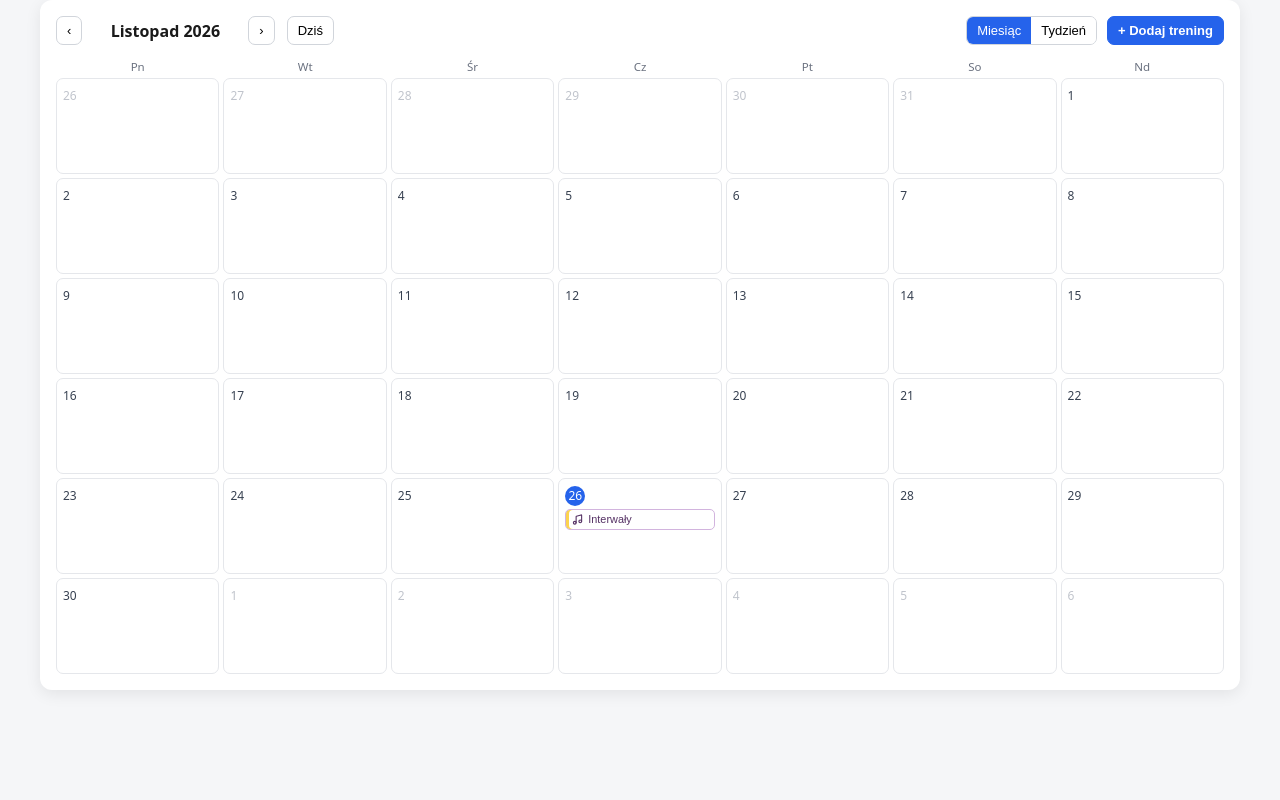
Test case: CalendarPage › w trybie podglądu › plan oglądającego trenera ma „Edytuj", ale nadal bez zmiany stanu i usuwania
Click the button titled "Interwały · ułożony przez Ciebie". click: (640, 519)
box: [565,508,715,530]
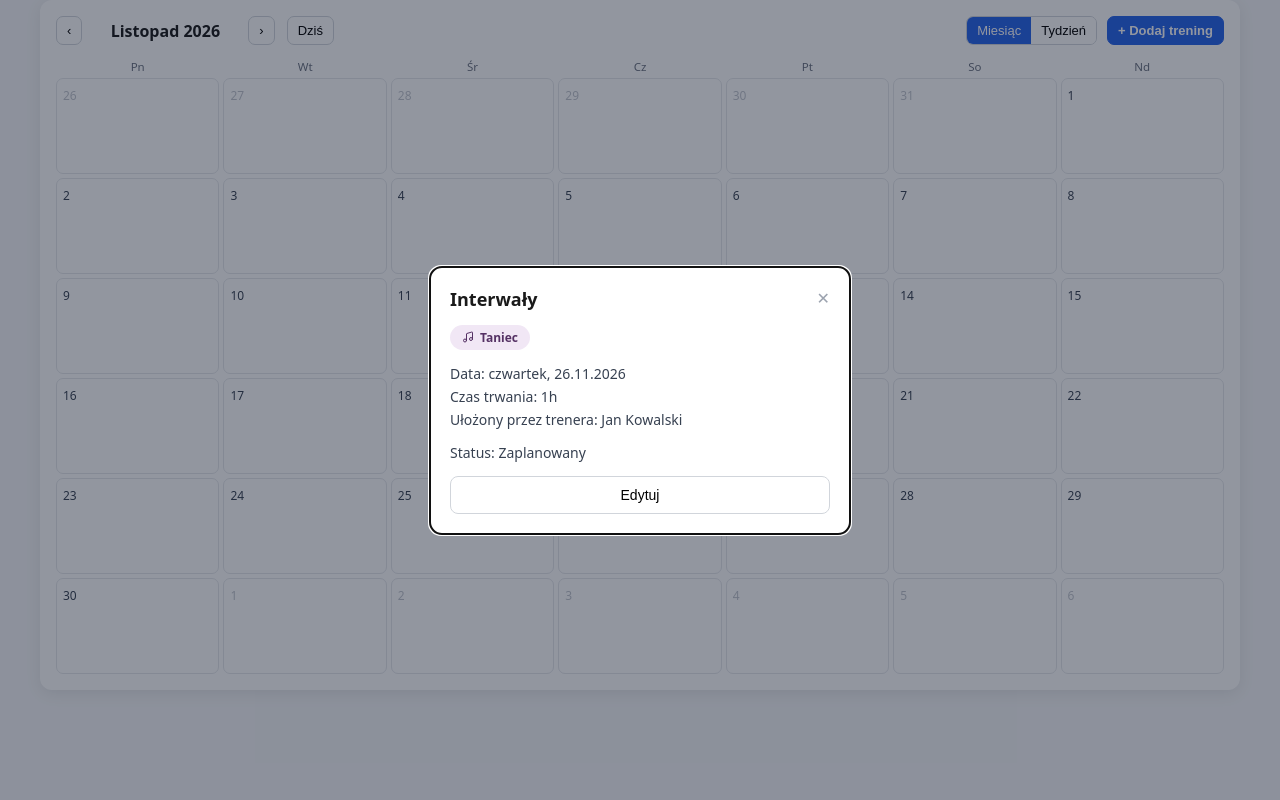
Result: the button "Edytuj" is shown at [450,476,830,514]
